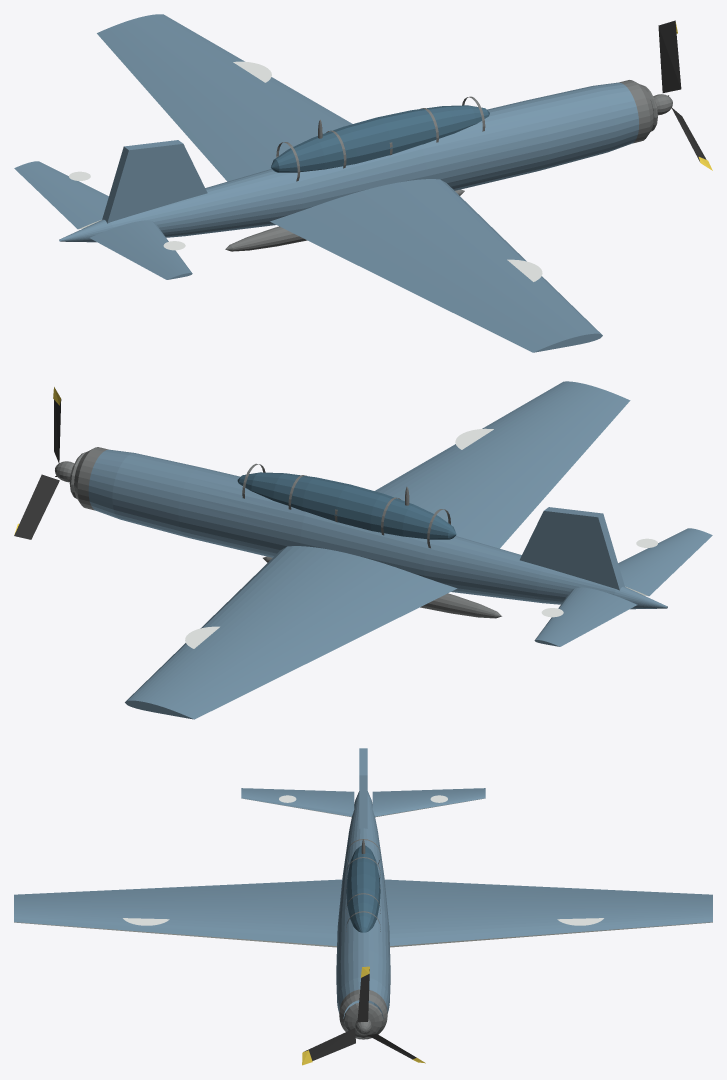
Rendered from a-torpedo-bomber.glb.
3 views of the same model, one above another, from view 1: azimuth 30°, elevation 25°; view 2: azimuth 150°, elevation 25°; view 3: azimuth 270°, elevation 25° (orthographic). The views are drawn at different scales.
Visible parts, largest first — view 1: A torpedo-bomber; view 2: A torpedo-bomber; view 3: A torpedo-bomber.
Part boxes in pixels (x1,y1,x2,y2): A torpedo-bomber: (14,14,712,352); A torpedo-bomber: (14,381,712,719); A torpedo-bomber: (14,748,712,1065).
Size of the model in its own units: 12.34 by 2.59 by 15.1.
